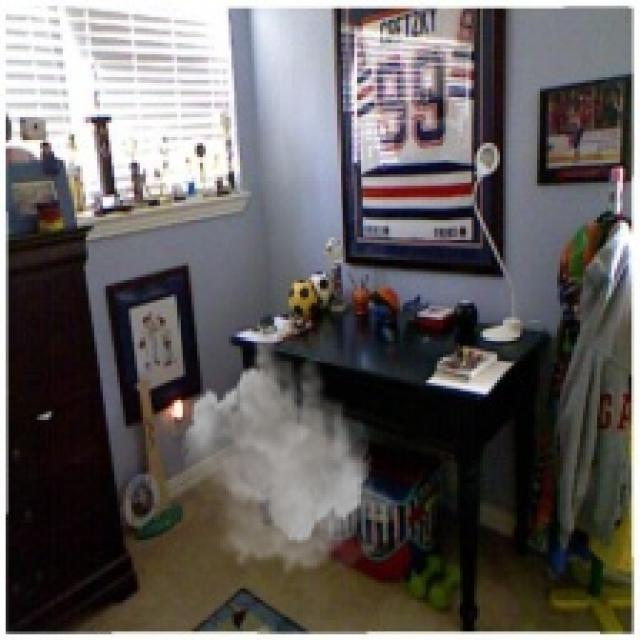Smoke: (180, 317, 400, 577)
